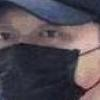mask: (1, 45, 100, 98)
